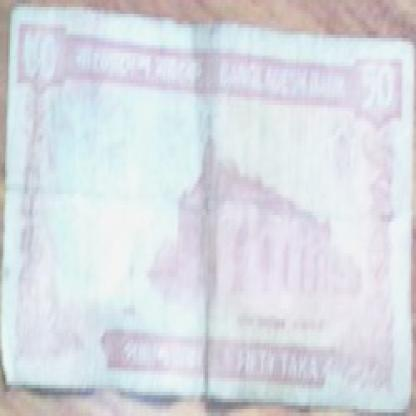Fifty taka: (12, 14, 85, 87), (358, 66, 406, 152)
